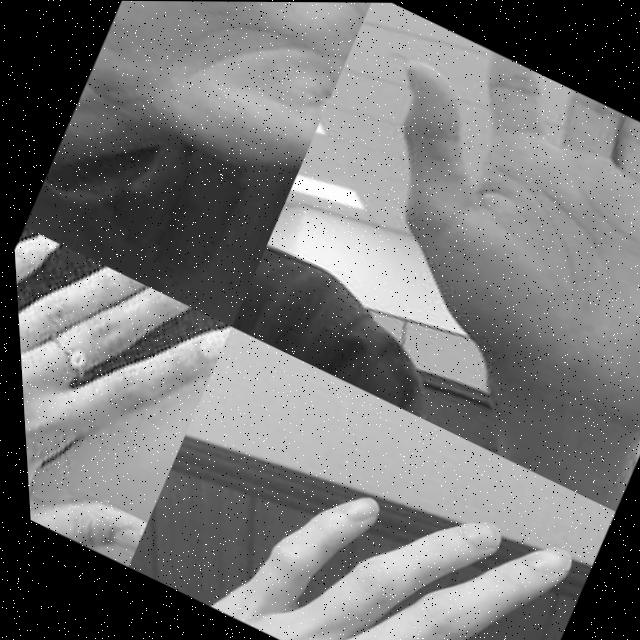hand: (305, 18, 640, 430), (110, 375, 590, 640), (10, 225, 237, 566), (76, 0, 383, 190)
